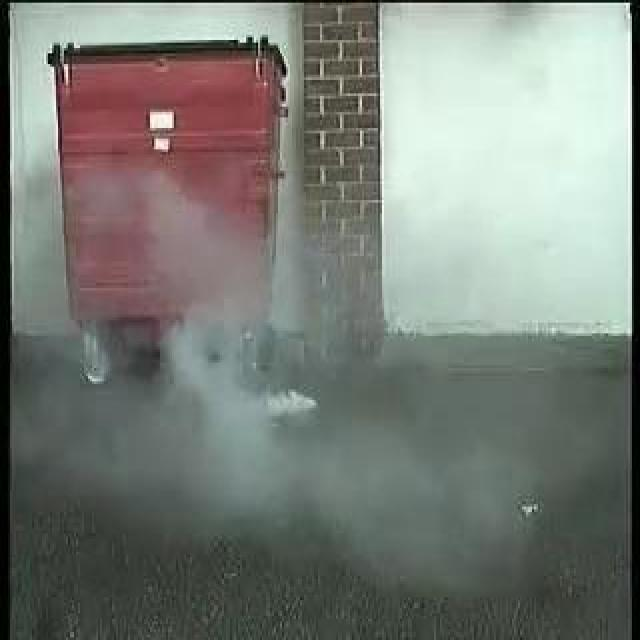Smoke: (151, 237, 317, 483)
